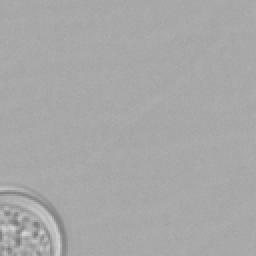picoshell: (0, 186, 64, 254)
